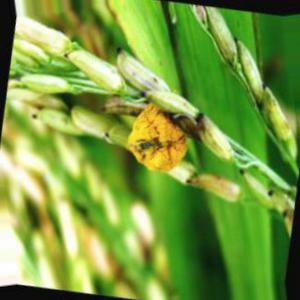Leaf_Scald: (134, 109, 186, 173)
